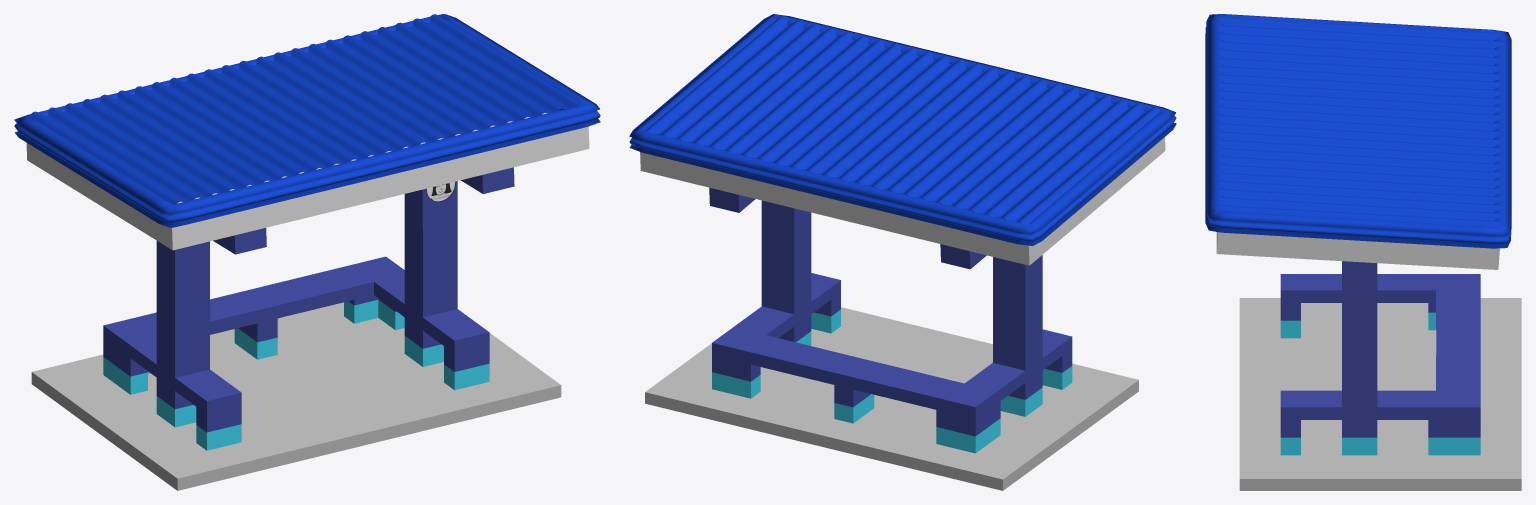
The model's file is waiting_shed_v02_more_roof_design.glb.
3 renders of one model, left to right at view 1: azimuth 30°, elevation 25°; view 2: azimuth 150°, elevation 25°; view 3: azimuth 270°, elevation 25°, orthographic. The views are drawn at different scales.
Parts seen in each view (by area): view 1: waiting-shed_0; view 2: waiting-shed_0; view 3: waiting-shed_0.
Part boxes in pixels (box(x1,y1,x2,y2)): waiting-shed_0: box(14, 14, 600, 490); waiting-shed_0: box(629, 14, 1176, 490); waiting-shed_0: box(1205, 14, 1521, 490).
Bounding box in the file's own units: 5.49 × 3.57 × 3.55.
6 materials, 1 textured.
